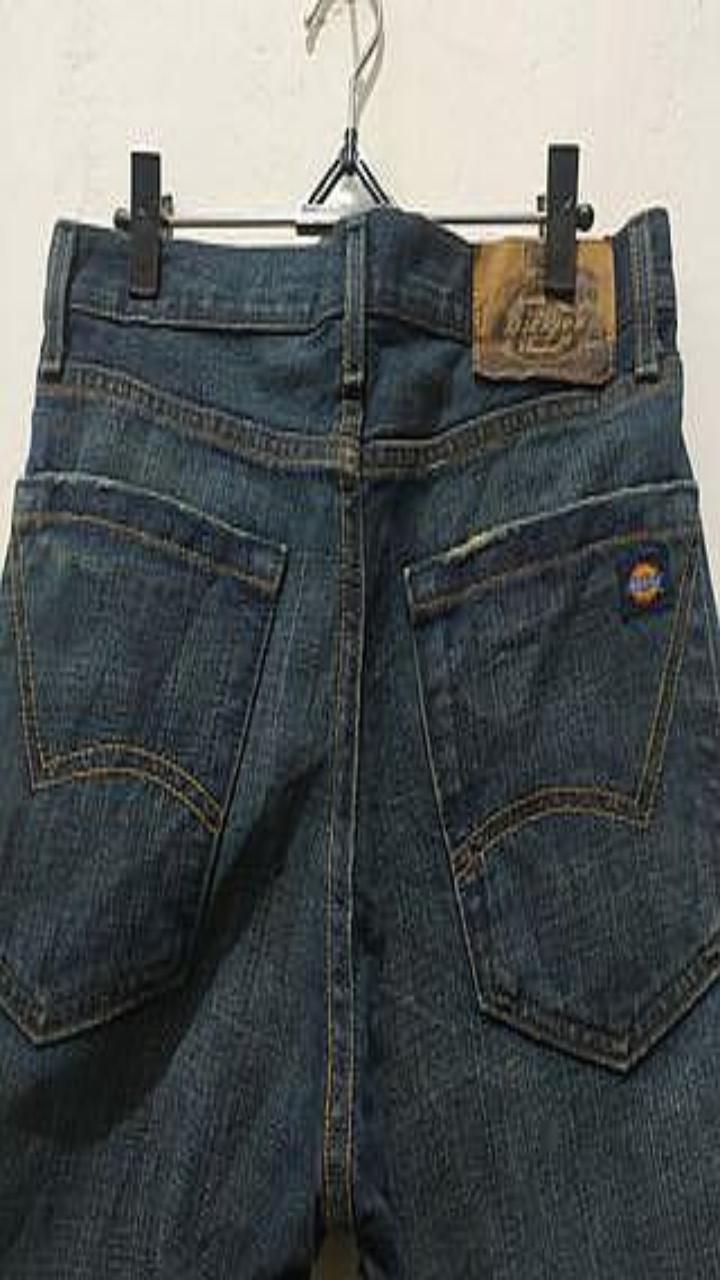Shorts: (0, 206, 719, 1279)
